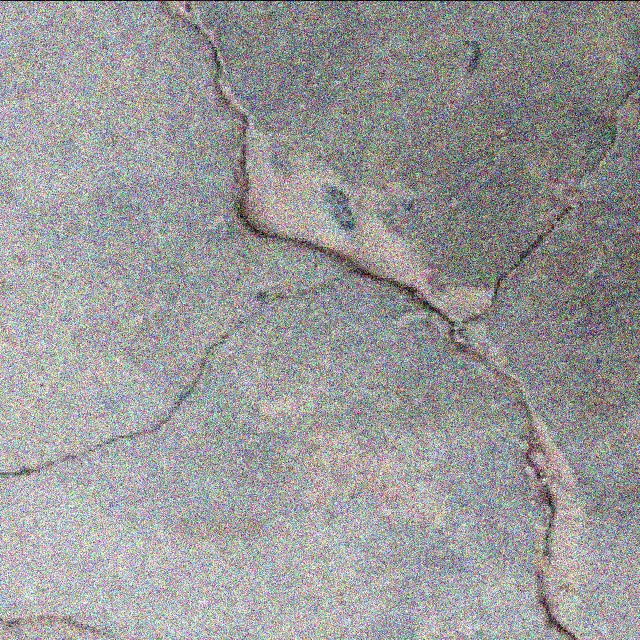SurfaceCrack: (146, 0, 596, 636), (0, 244, 382, 510)
